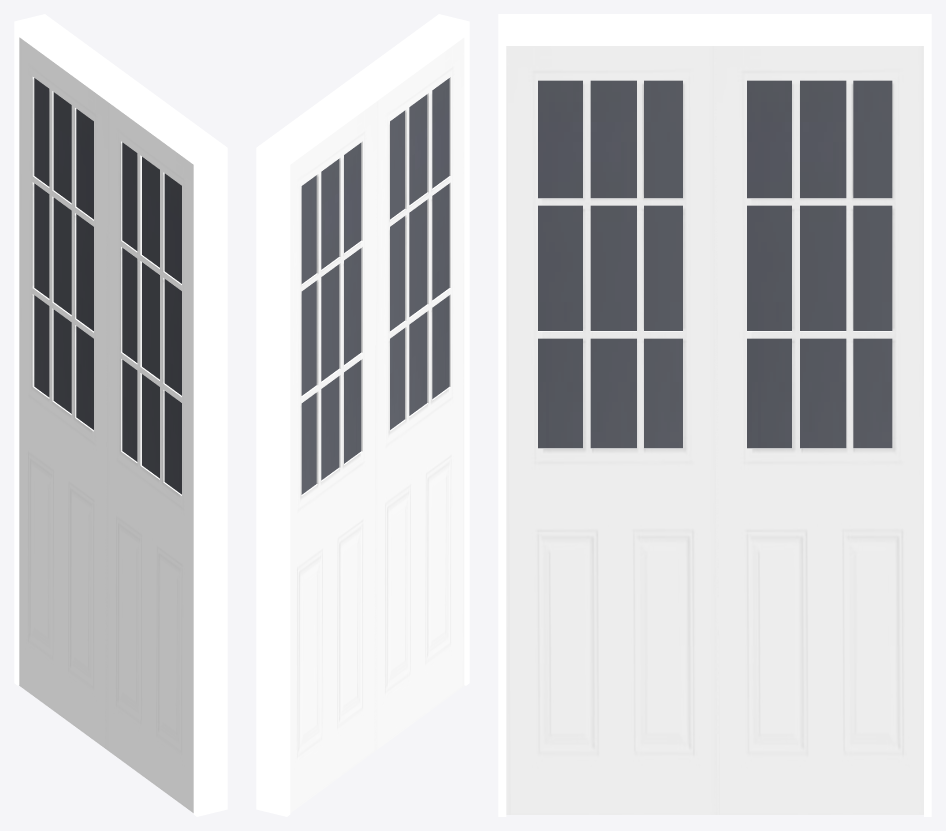
File: 9_lite_double_door_walkin.118af138.gltf
The picture shows the model from 3 angles, left to right: view 1: azimuth 30°, elevation 25°; view 2: azimuth 150°, elevation 25°; view 3: azimuth 270°, elevation 25°; orthographic projection. The views are drawn at different scales.
Visible parts, largest first — view 1: door, trim, glass; view 2: door, trim, glass; view 3: door, glass, trim.
Part boxes in pixels (box(x1,y1,x2,y2)): door: box(19, 37, 193, 812); trim: box(14, 14, 227, 816); glass: box(34, 78, 181, 494); door: box(290, 38, 464, 812); trim: box(256, 14, 469, 816); glass: box(301, 78, 449, 494); door: box(506, 46, 923, 814); glass: box(538, 80, 892, 448); trim: box(498, 14, 931, 816).
Bounding box in the file's own units: 0.2897 × 6.01 × 3.
3 materials, 2 textured.
